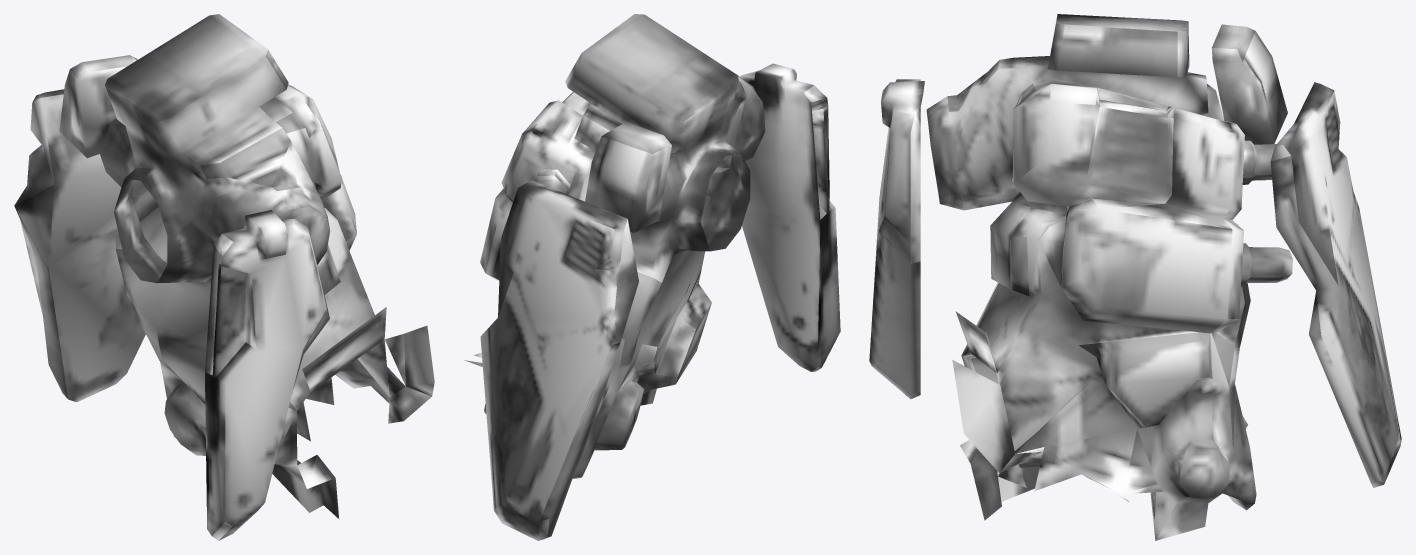
The model's file is l_thigh.glb.
3 renders of one model, left to right at view 1: azimuth 30°, elevation 25°; view 2: azimuth 150°, elevation 25°; view 3: azimuth 270°, elevation 25°, orthographic. The views are drawn at different scales.
Parts seen in each view (by area): view 1: l_thigh; view 2: l_thigh; view 3: l_thigh.
Boxes of the visible parts, box(x1,y1,x2,y2) form: l_thigh: box(14, 14, 434, 540); l_thigh: box(464, 14, 840, 540); l_thigh: box(869, 14, 1401, 540).
Size of the model in its own units: 0.6873 by 1.07 by 1.08.
3 materials, 3 textured.
